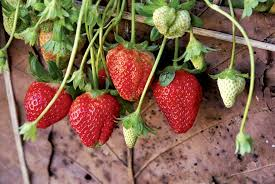strawberry: (151, 67, 204, 136), (104, 42, 157, 104), (67, 91, 121, 149), (26, 79, 73, 131)
